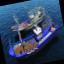fishing boat: (1, 8, 64, 62), (5, 0, 48, 34)
